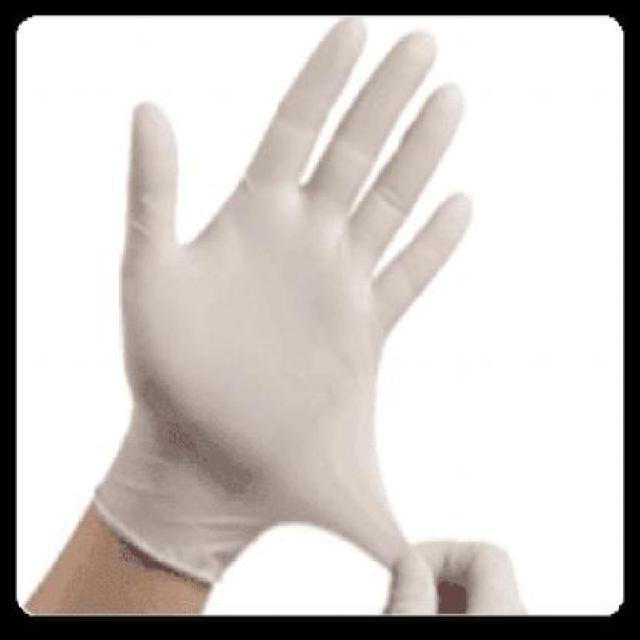gloved_hand: (59, 20, 478, 562)
